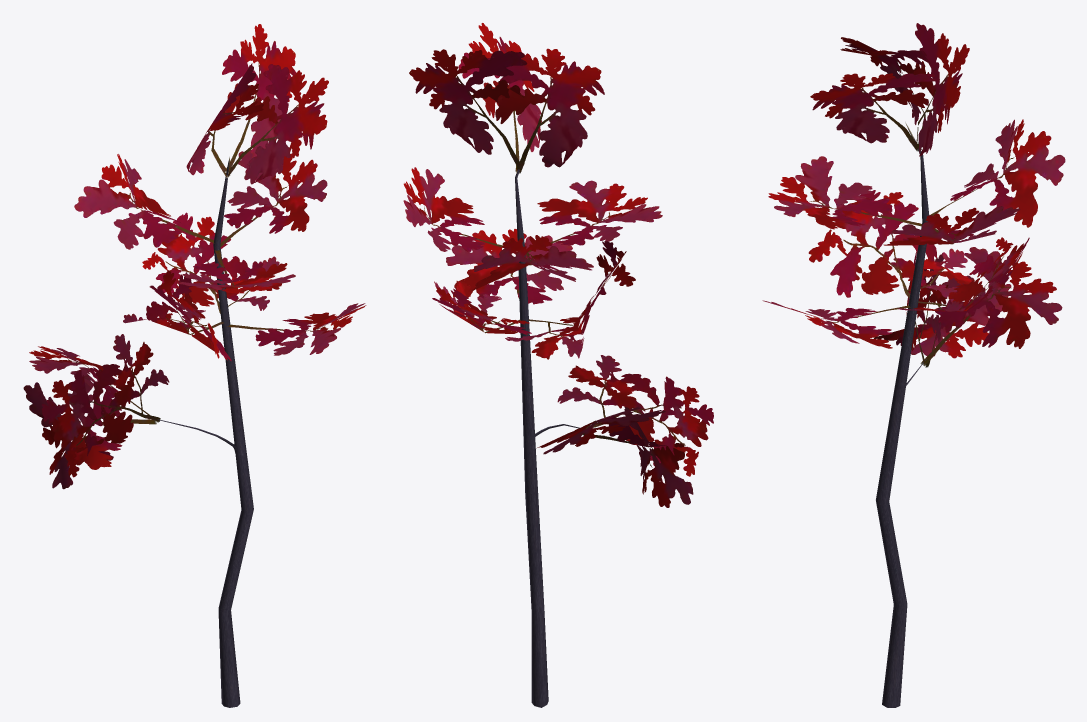
3 renders of one model, left to right at view 1: azimuth 30°, elevation 25°; view 2: azimuth 150°, elevation 25°; view 3: azimuth 270°, elevation 25°, orthographic. The views are drawn at different scales.
Visible parts, largest first — view 1: SM_BM_Oak_Tree_Sapling_01_LOD0; view 2: SM_BM_Oak_Tree_Sapling_01_LOD0; view 3: SM_BM_Oak_Tree_Sapling_01_LOD0.
Part boxes in pixels (x1,y1,x2,y2): SM_BM_Oak_Tree_Sapling_01_LOD0: (23,24,366,707); SM_BM_Oak_Tree_Sapling_01_LOD0: (403,23,713,707); SM_BM_Oak_Tree_Sapling_01_LOD0: (762,23,1065,707).
Bounding box in the file's own units: 0.6458 × 1.32 × 0.5531.
Materials: 2 (2 with a texture image).
